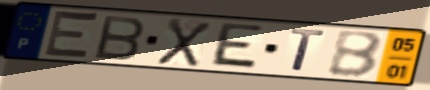B: (326, 30, 385, 80), (92, 13, 148, 62)
E: (41, 7, 103, 62), (207, 21, 267, 72)
T: (288, 26, 328, 74)
X: (153, 16, 214, 69)
